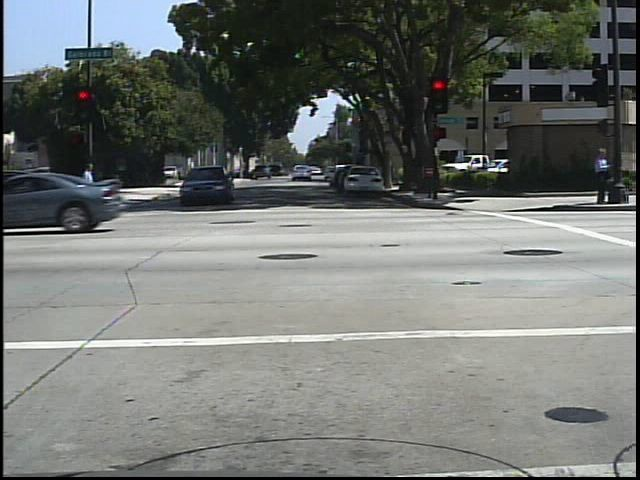person: (73, 158, 104, 222), (589, 144, 615, 208)
